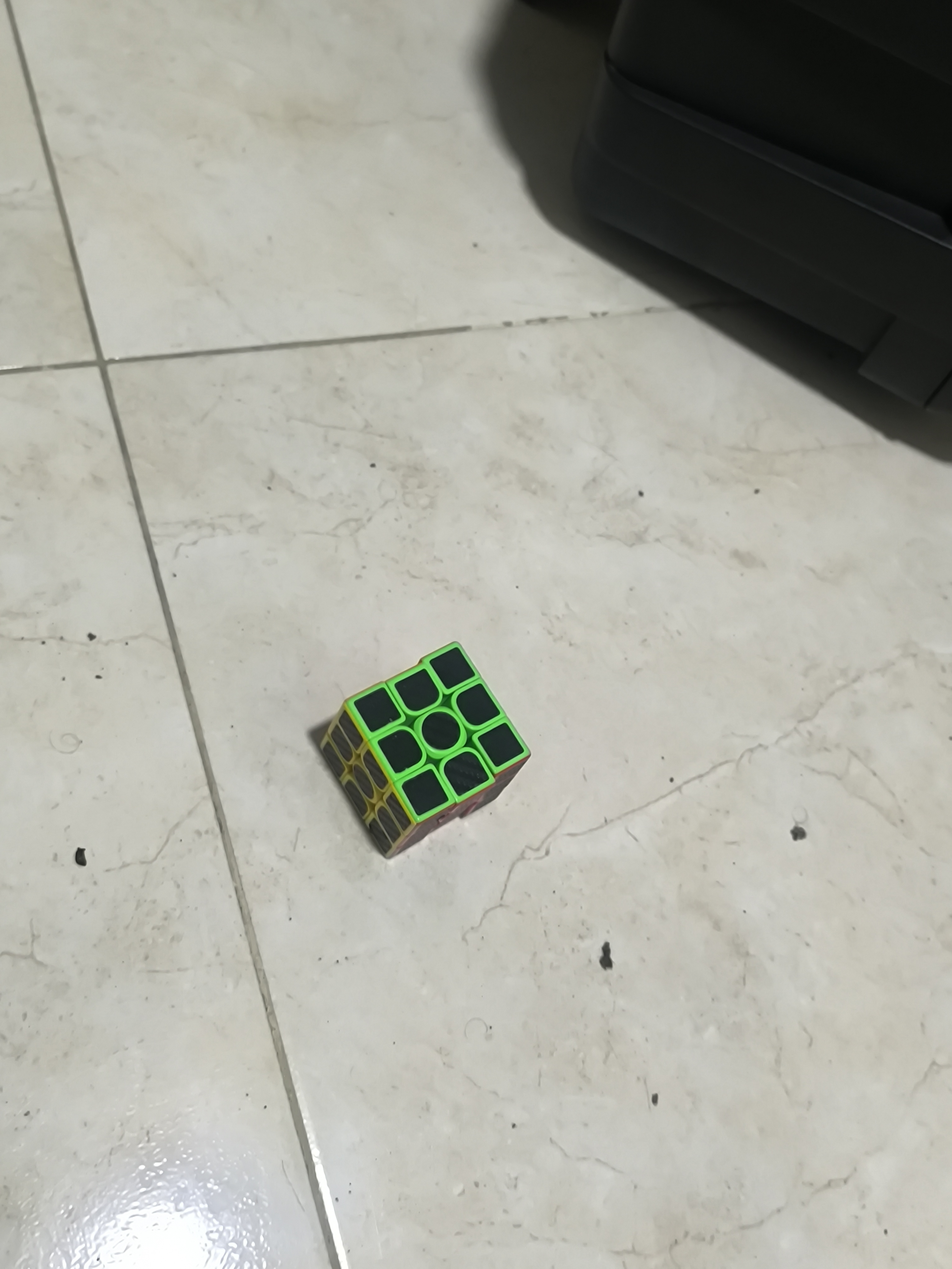cube_rubik: (320, 644, 529, 858)
